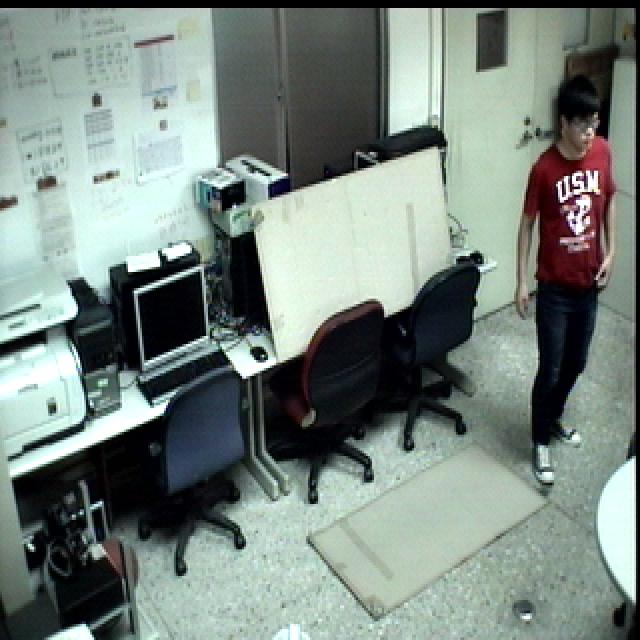stand: (502, 69, 624, 491)
